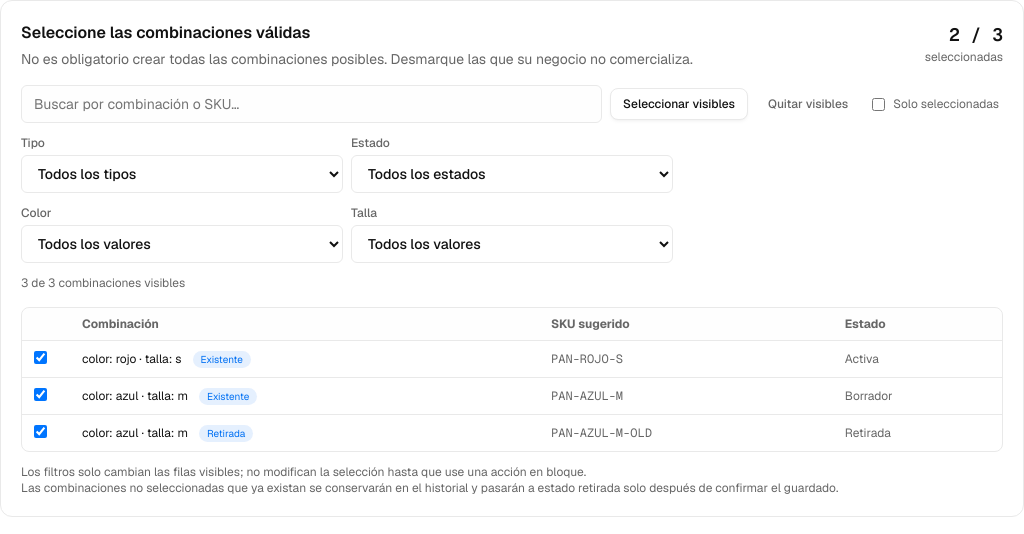
ProductCombinationSelector › filtra por tipo, estado y valor de atributo
Select "Retiradas" in the dropdown named "Filtrar por tipo": point(182, 174) [21,155,343,193]
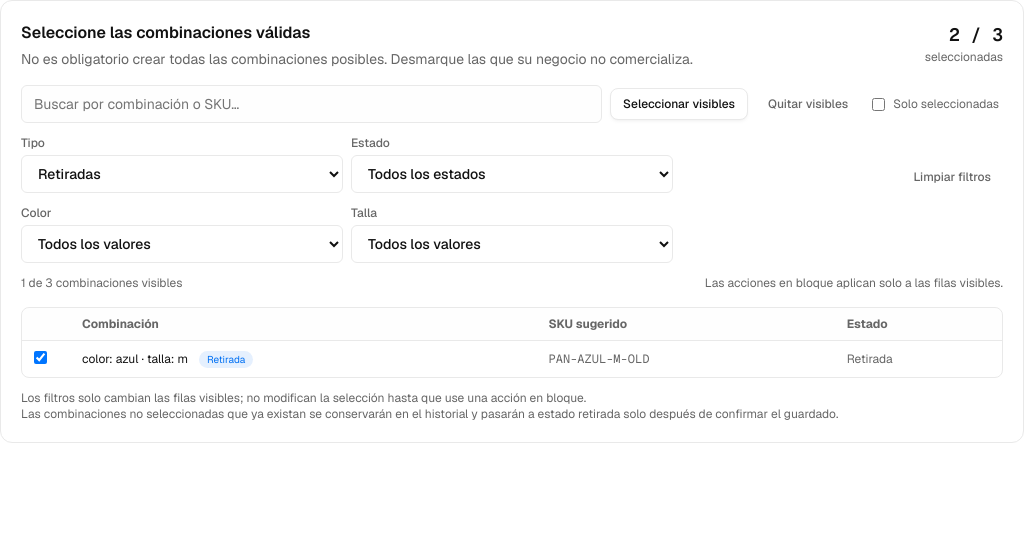
Check: the text "PAN-AZUL-M-OLD" is shown, box [536,340,835,377]
Check: the text "PAN-ROJO-S" is gone
Select "Activa" in the dropdown named "Filtrar por estado": point(512, 174) [351,155,673,193]
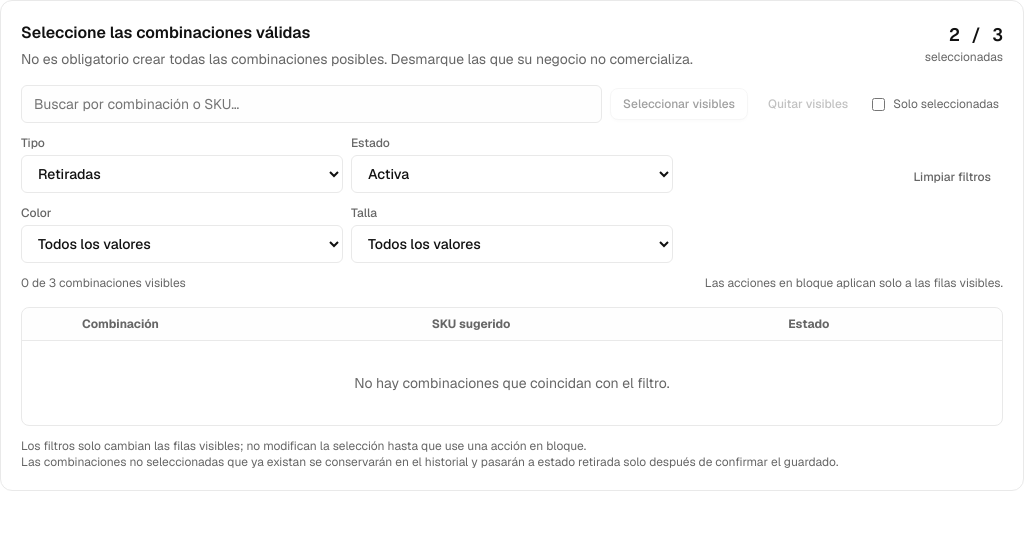
Check: the text "No hay combinaciones que coincidan con el filtro." is shown, box [22,340,1002,425]
Select "Todos los tipos" in the dropdown named "Filtrar por tipo": point(182, 174) [21,155,343,193]
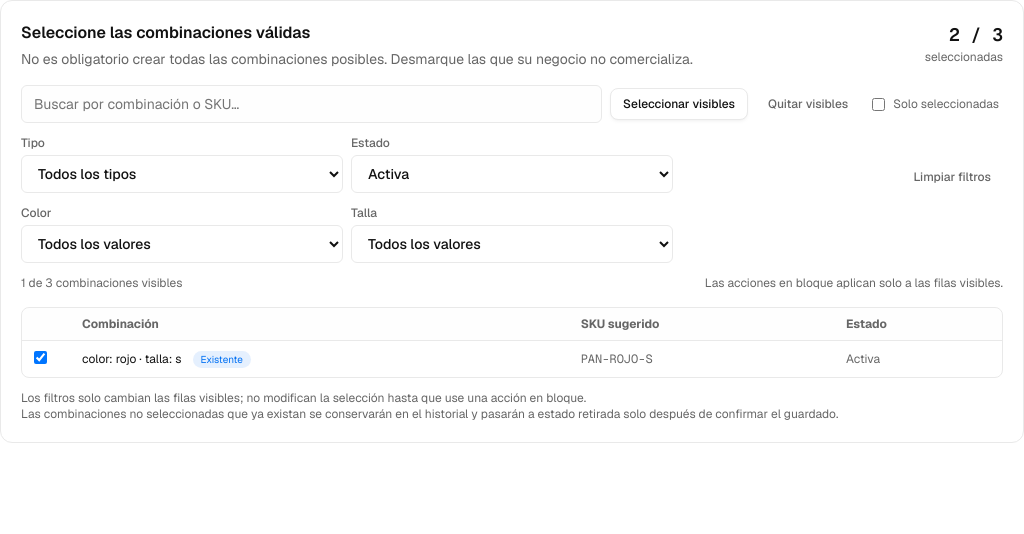
Select "Todos los estados" in the dropdown named "Filtrar por estado": point(512, 174) [351,155,673,193]
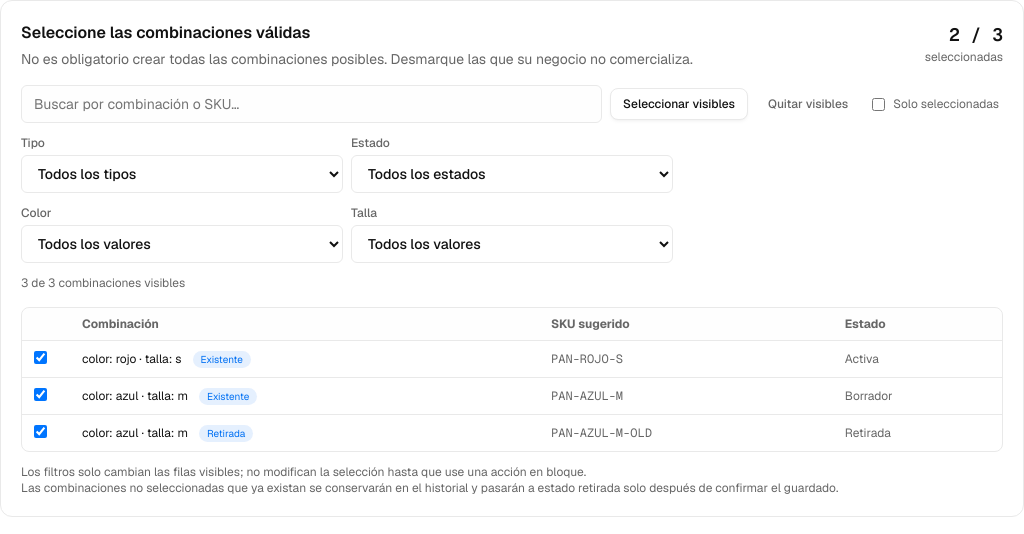
Select "Rojo (rojo)" in the dropdown named "Filtrar por Color": point(182, 244) [21,225,343,263]
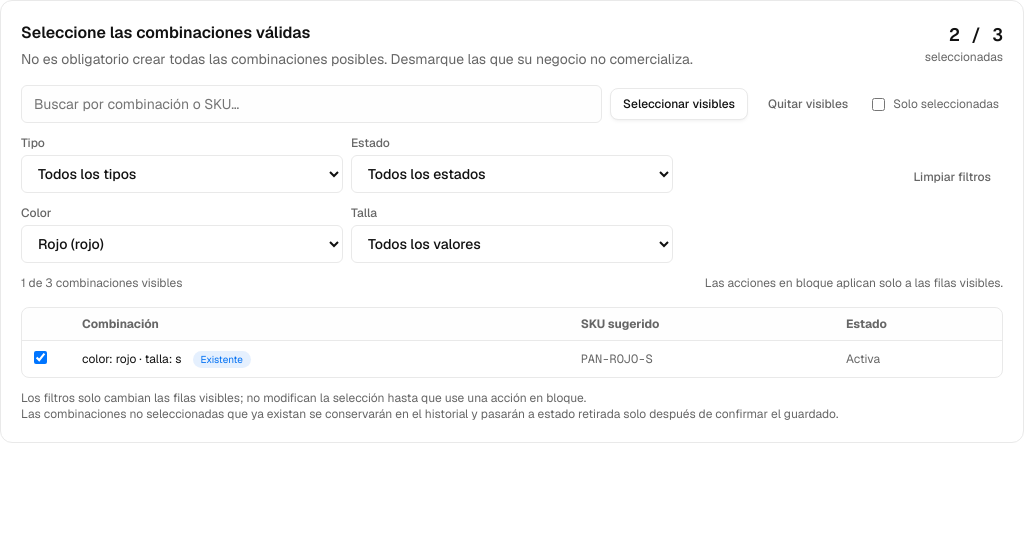
Check: the text "PAN-ROJO-S" is shown, box [569,340,834,377]
Check: the text "PAN-AZUL-M" is gone
Check: the text "PAN-AZUL-M-OLD" is gone
